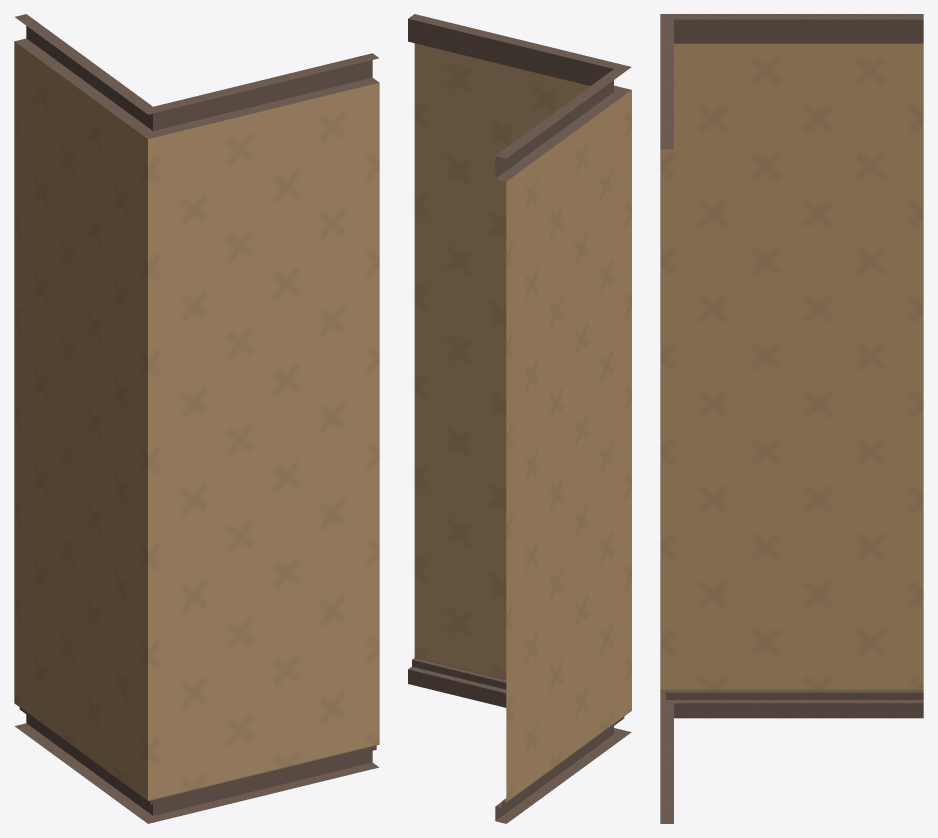
File: Wall Room Corner Concave (1).fbx
The picture shows the model from 3 angles, left to right: view 1: azimuth 30°, elevation 25°; view 2: azimuth 150°, elevation 25°; view 3: azimuth 270°, elevation 25°; orthographic projection. The views are drawn at different scales.
Parts seen in each view (by area): view 1: Wall Room Corner Concave.001; view 2: Wall Room Corner Concave.001; view 3: Wall Room Corner Concave.001.
Boxes of the visible parts, x1,y1,x2,y2 form: Wall Room Corner Concave.001: (14,14,379,823); Wall Room Corner Concave.001: (408,14,631,823); Wall Room Corner Concave.001: (660,14,923,823).
Bounding box in the file's own units: 2 × 5.85 × 2.
